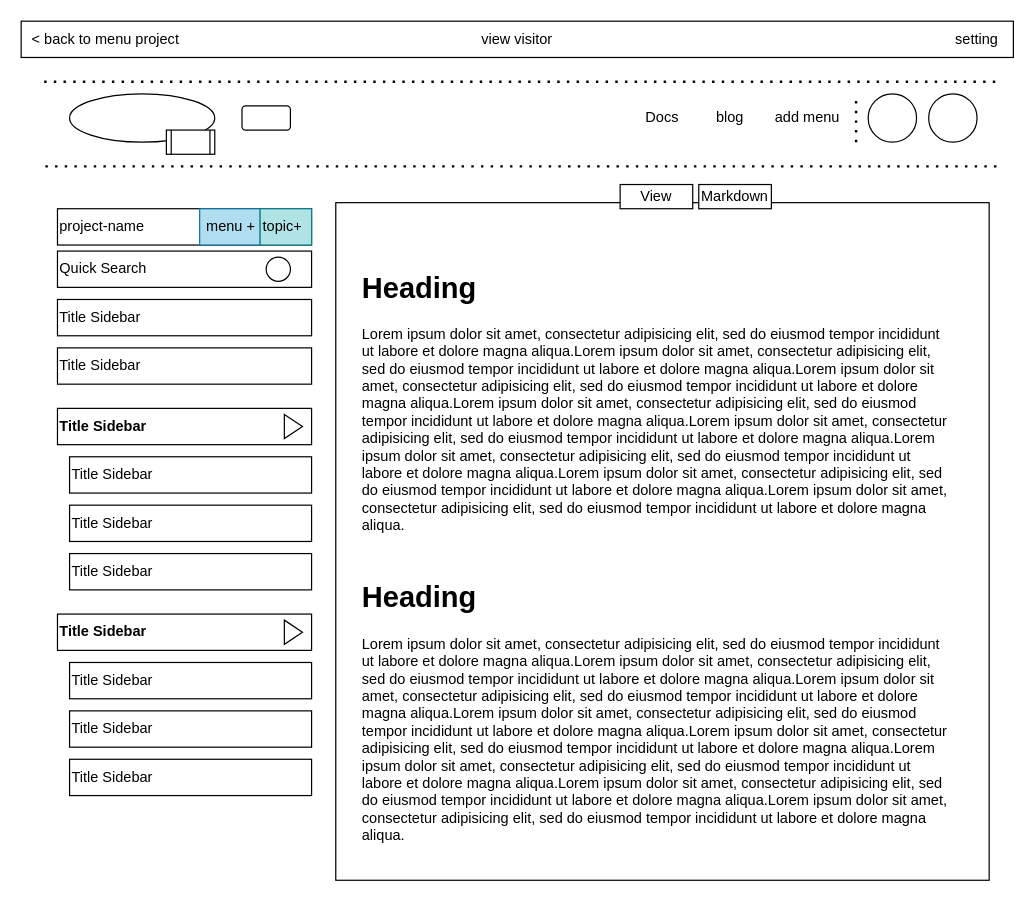
Image size: 1035x901. Some labels were removed from this diagram. The shapes that lost their labels are listed below. From the top down, each one's box as (x1, y1, x2, y2) in pixels, then its label:
(68, 93, 215, 142): icon
(241, 105, 290, 130): version
(867, 93, 917, 142): dark mode
(927, 93, 977, 142): github
